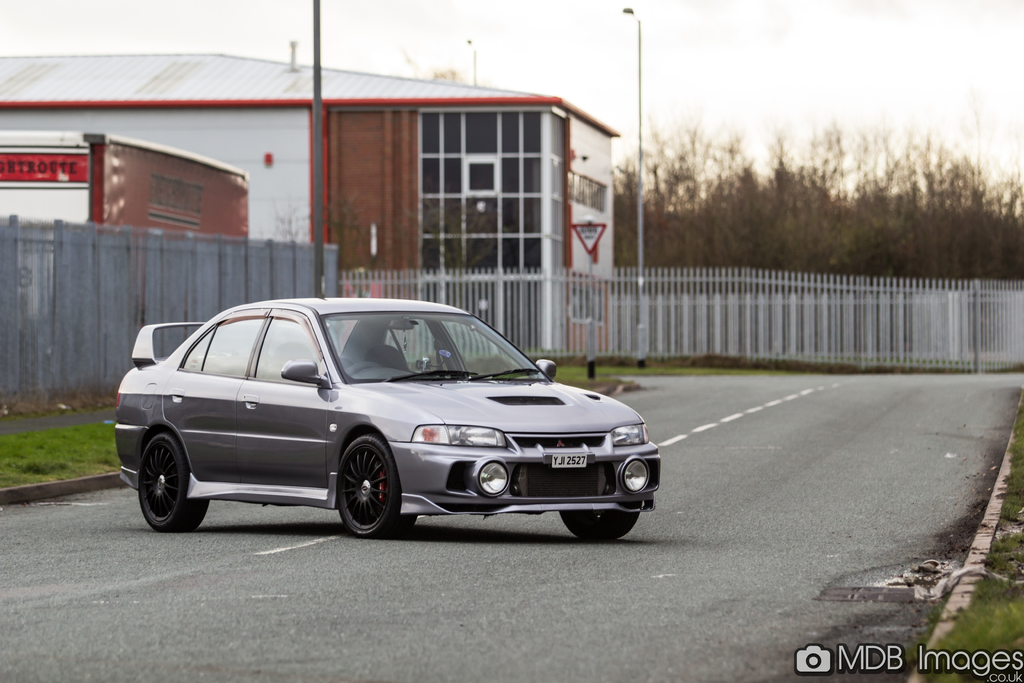Car: (99, 299, 675, 544)
